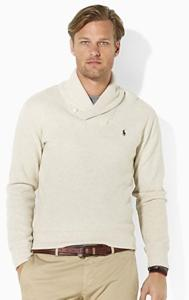S_cardigan sweater: (5, 79, 181, 283)
